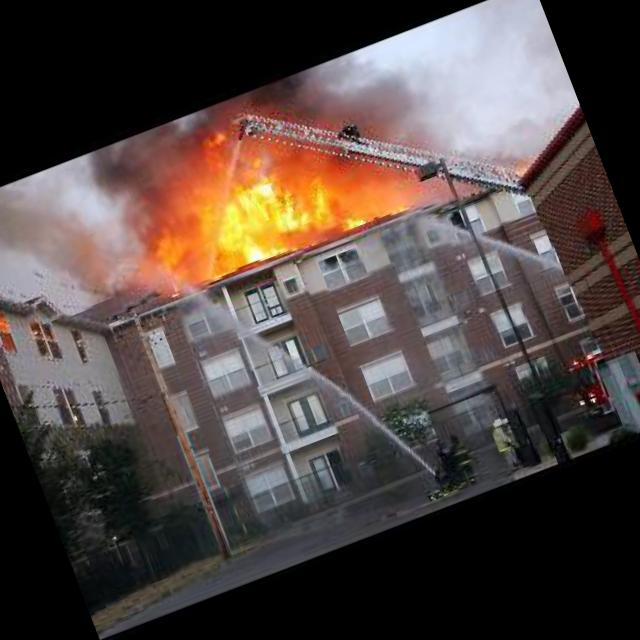fire: (100, 78, 381, 306)
smoke: (0, 158, 134, 330)
